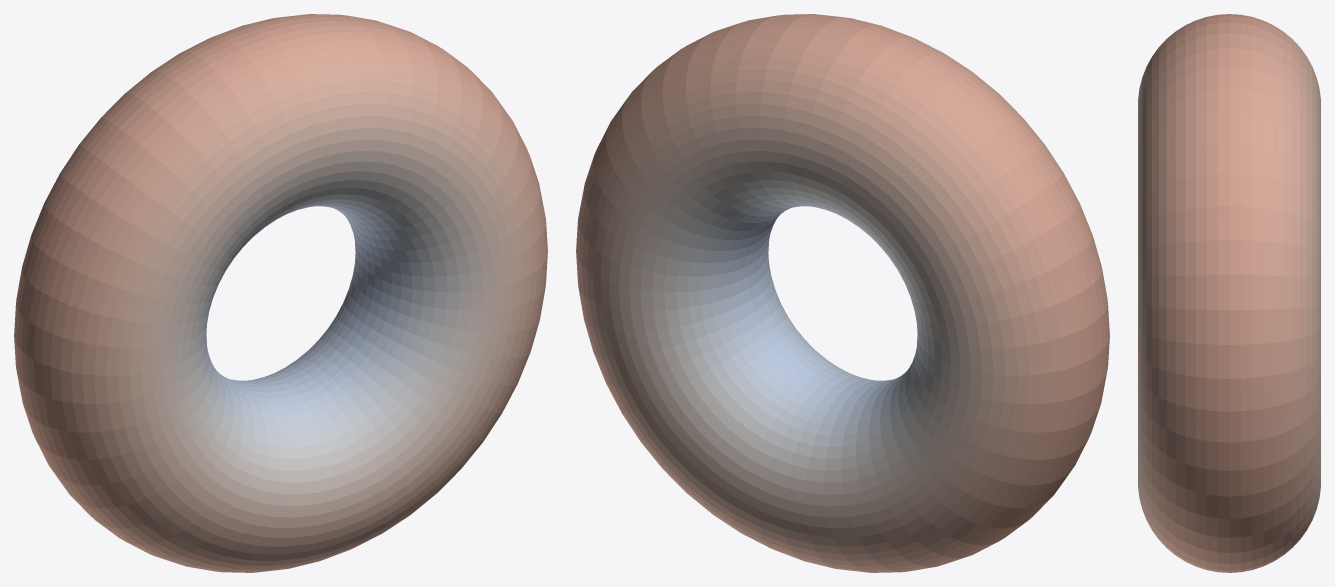
3 renders of one model, left to right at view 1: azimuth 30°, elevation 25°; view 2: azimuth 150°, elevation 25°; view 3: azimuth 270°, elevation 25°, orthographic. The views are drawn at different scales.
Visible parts, largest first — view 1: world; view 2: world; view 3: world.
Part boxes in pixels (x1=…): world: x1=14, y1=14, x2=547, y2=572; world: x1=576, y1=14, x2=1109, y2=572; world: x1=1138, y1=14, x2=1320, y2=572.
Bounding box in the file's own units: 24.8 × 24.75 × 8.12.
